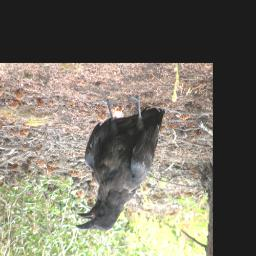Crow: (75, 93, 167, 232)
